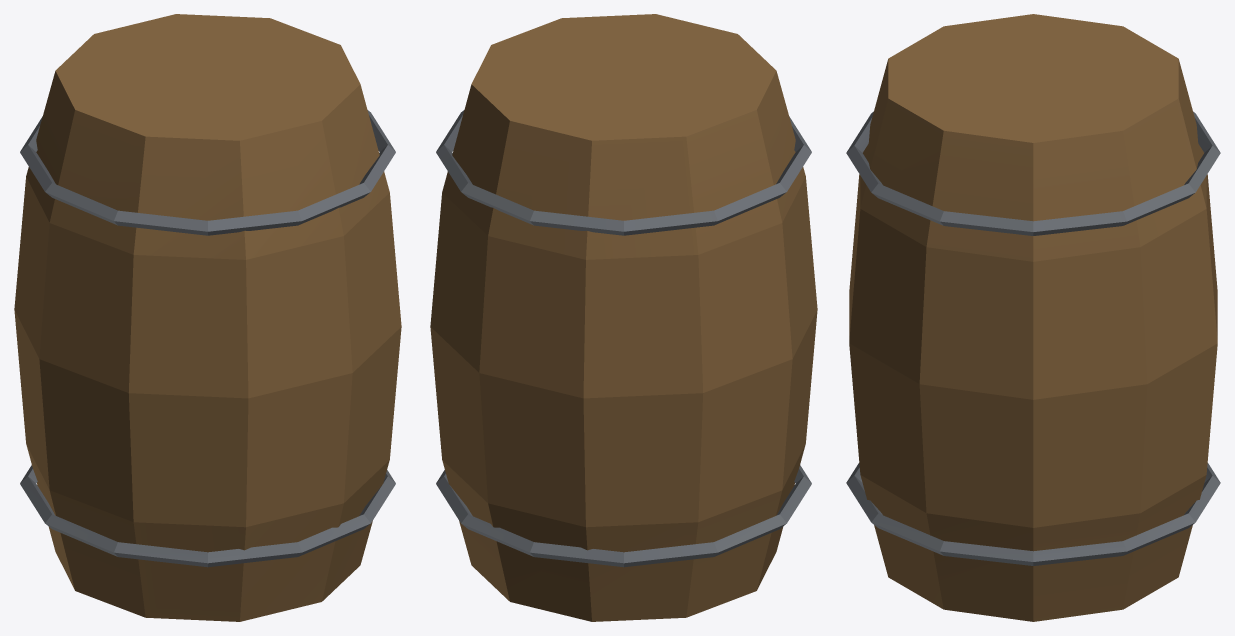
Rendered from Barrel.fbx.
3 views of the same model, side by side, from view 1: azimuth 30°, elevation 25°; view 2: azimuth 150°, elevation 25°; view 3: azimuth 270°, elevation 25° (orthographic).
Visible parts, largest first — view 1: Barrel; view 2: Barrel; view 3: Barrel.
Part boxes in pixels (box(x1,y1,x2,y2)): Barrel: box(14, 14, 401, 621); Barrel: box(430, 14, 817, 621); Barrel: box(846, 14, 1220, 621).
Bounding box in the file's own units: 0.66 × 0.9 × 0.638.
